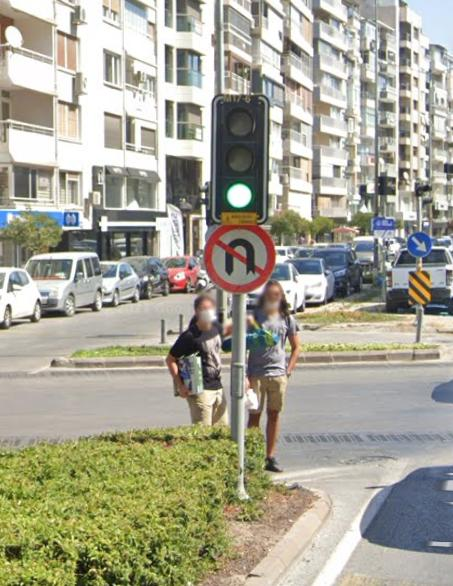greenlight: (215, 94, 266, 219)
